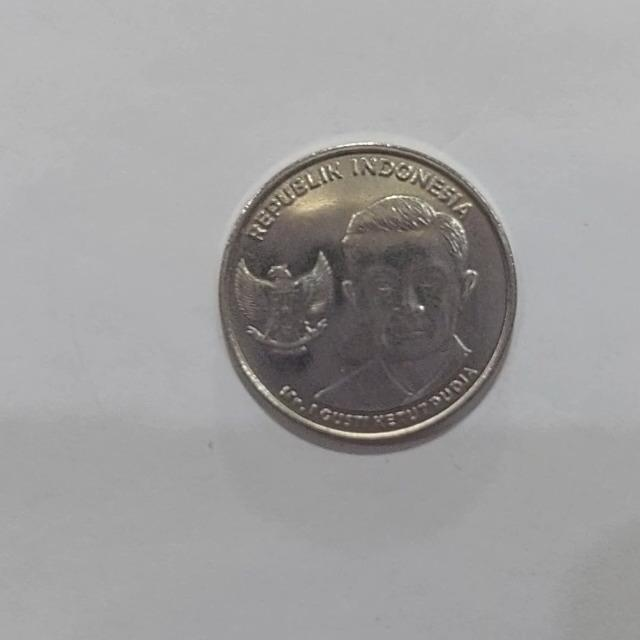Rp100: (216, 138, 519, 447)
